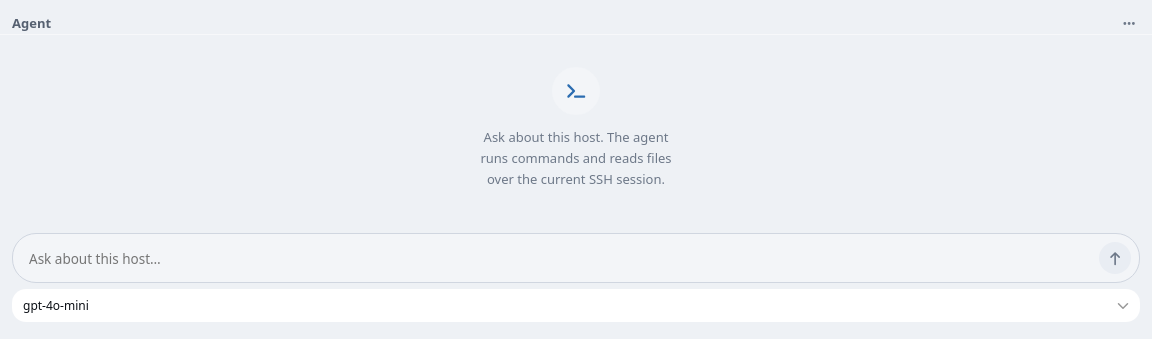
Test: AgentPanel prompting › sends the prompt with the active session and its title, then renders streamed text
This screenshot has width=1152, height=339.
In the text box named "Agent": (560, 260) [29,245,1091,274], type "how is the disk?"
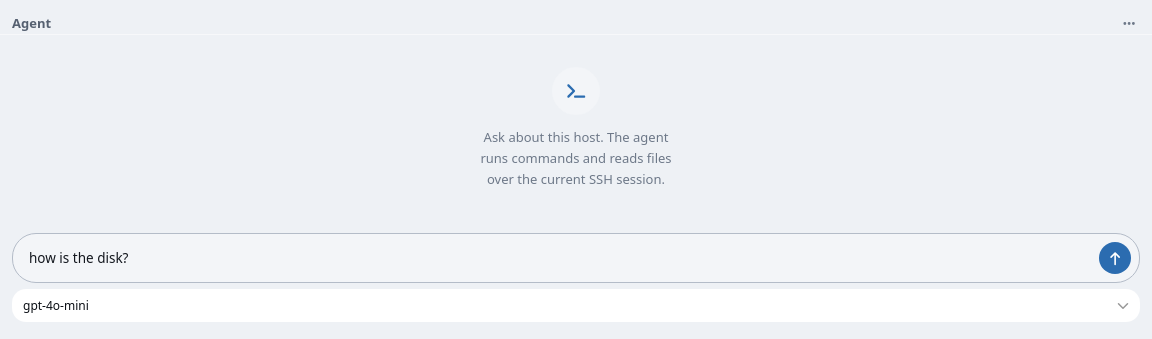
Click the button named "Send": (1115, 258) [1099,242,1131,274]
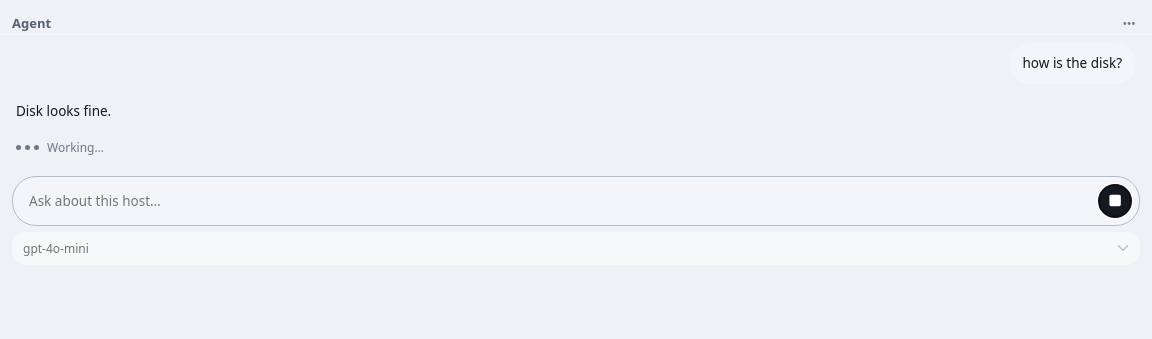
Expected: the text "how is the disk?" is shown, [1008,43,1136,84]
Expected: the text "Disk looks fine." is shown, [16,102,111,120]
